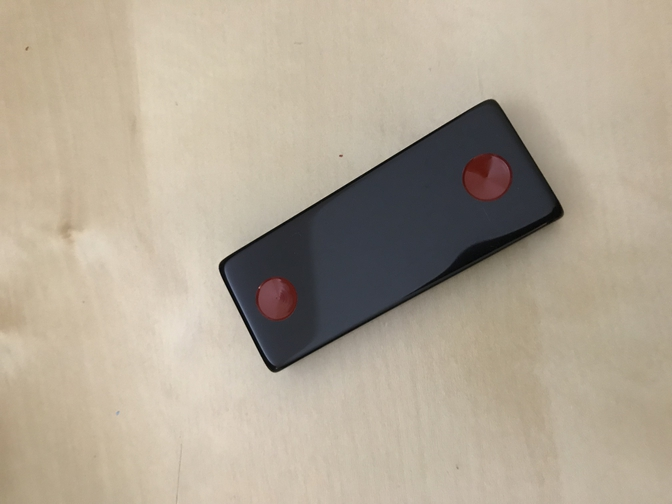earth: (217, 98, 564, 373)
